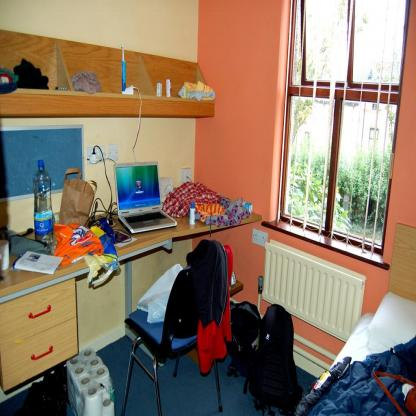board: (114, 167, 177, 234), (33, 160, 53, 242)
